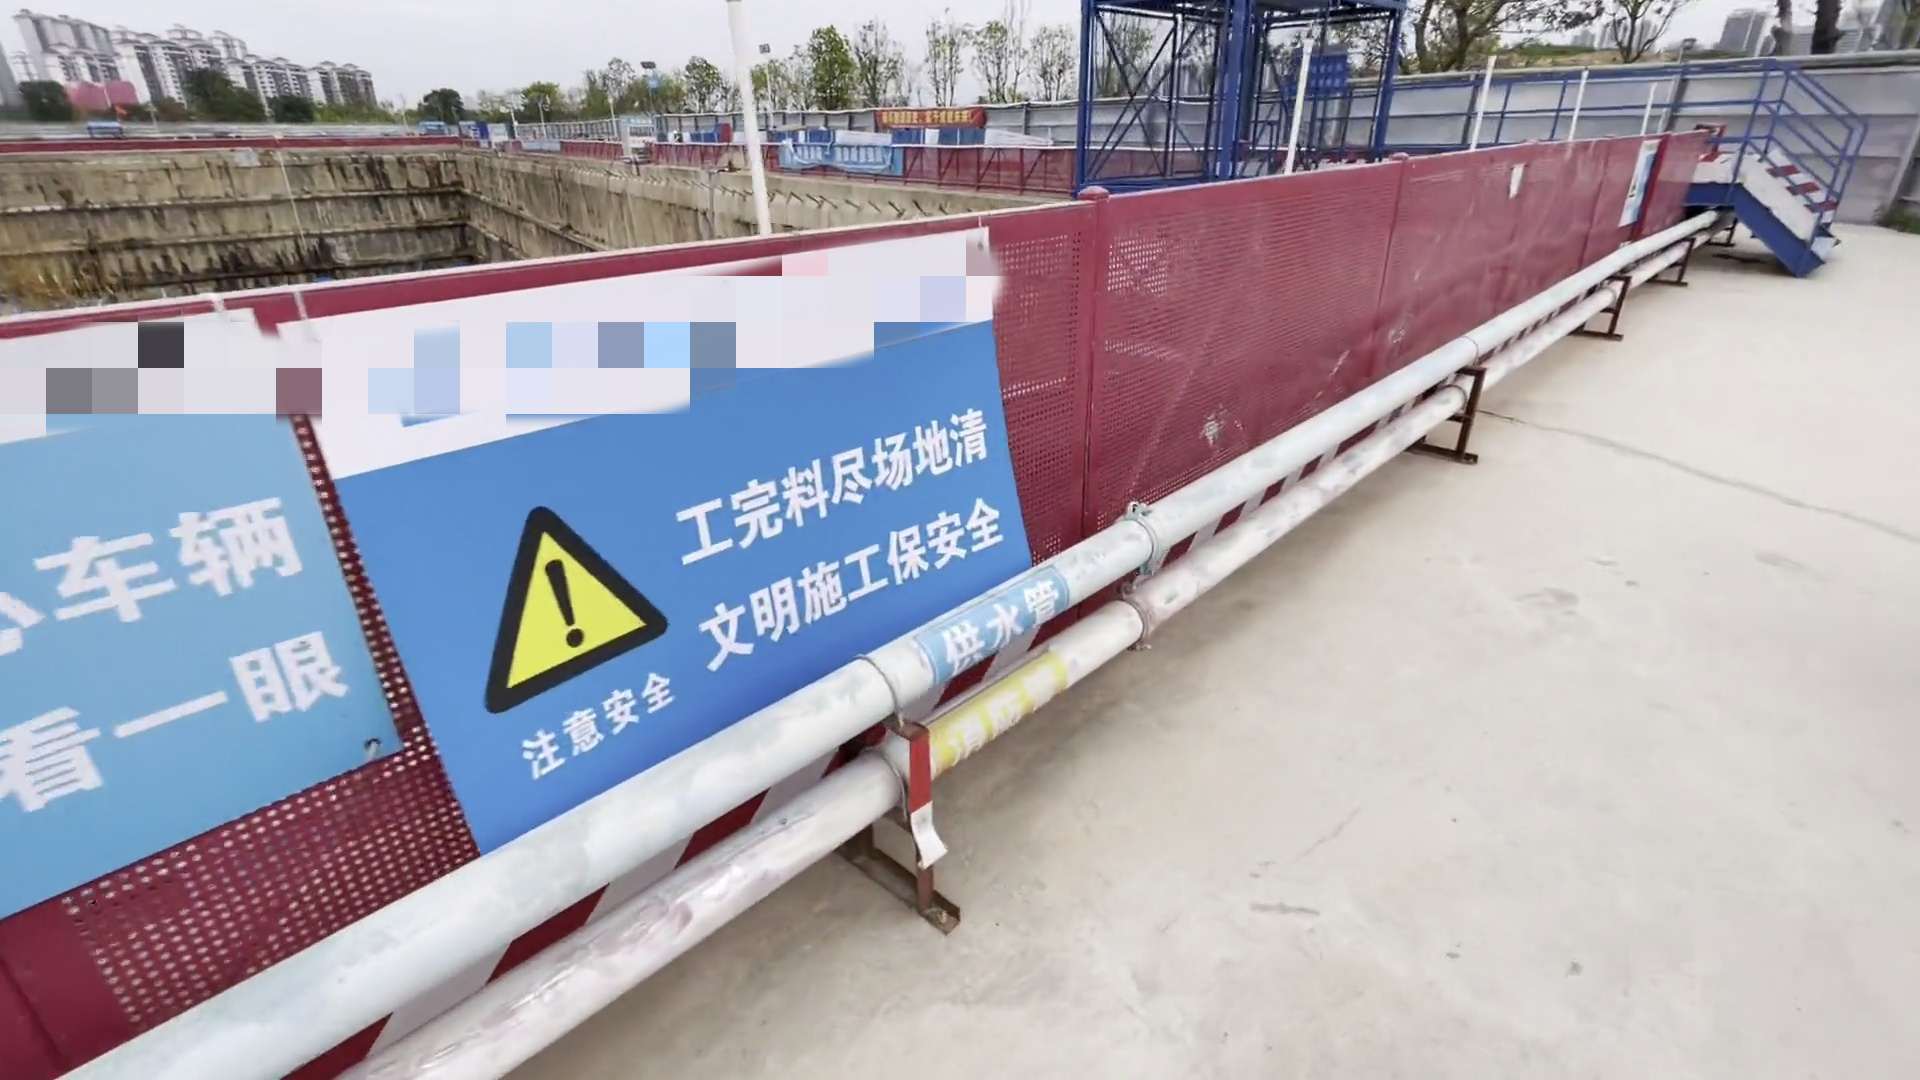fence: (3, 138, 1741, 1080)
slogan: (1, 469, 376, 814), (669, 400, 1010, 676), (778, 138, 899, 175), (877, 102, 971, 124)
